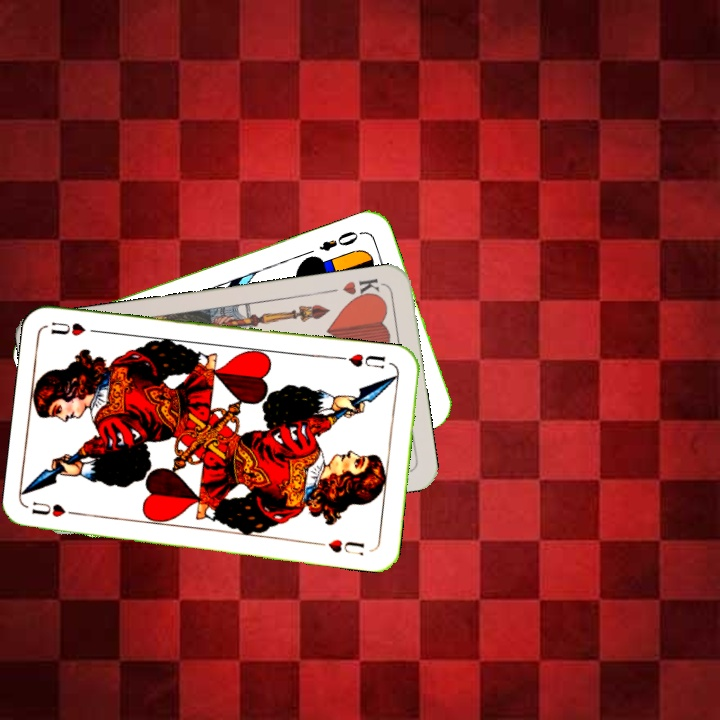EO: (315, 227, 366, 254)
HK: (338, 275, 386, 304)
HU: (27, 497, 86, 520), (335, 349, 388, 371)
